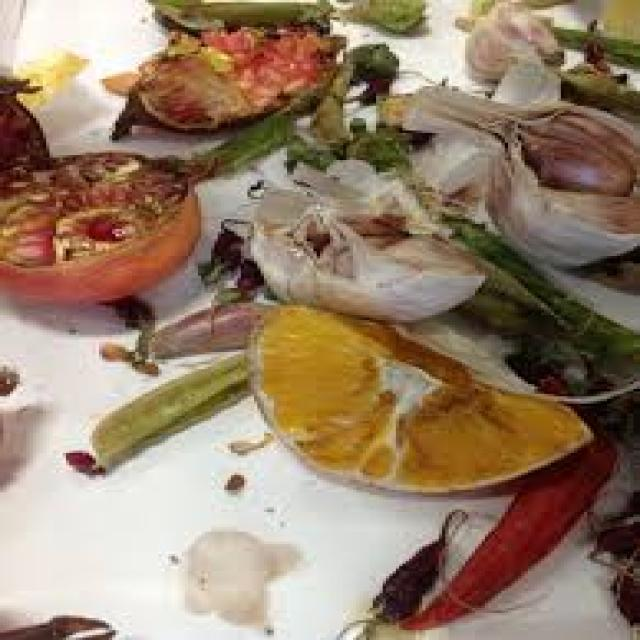food_waste: (0, 0, 637, 628), (343, 0, 422, 34), (0, 615, 109, 638)
